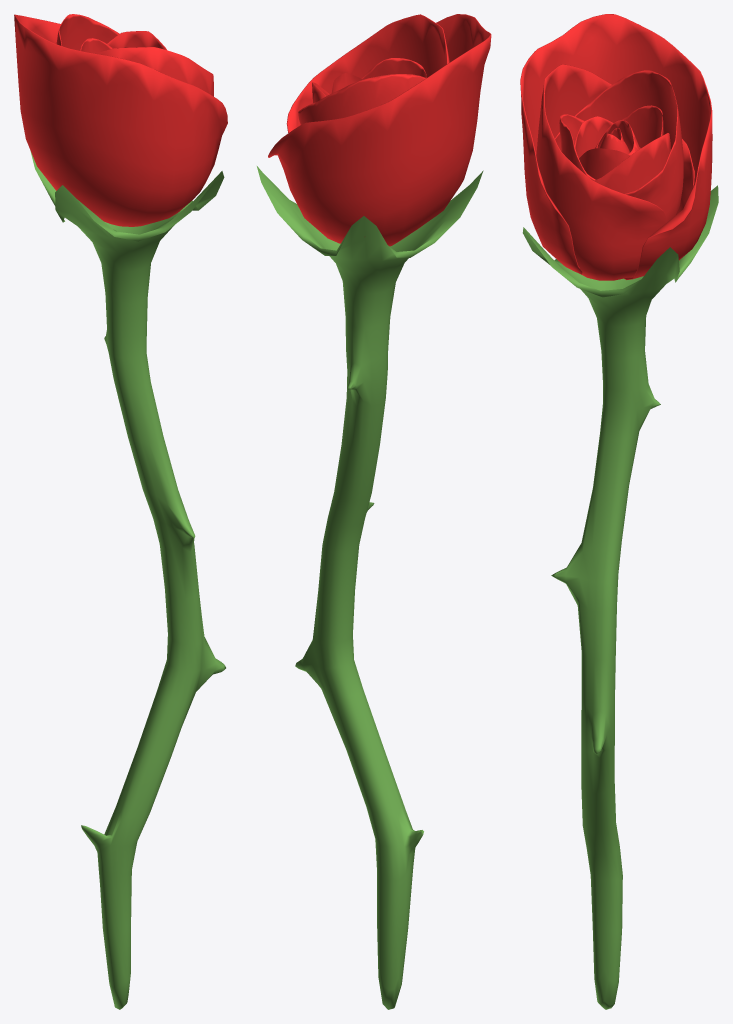
The model's file is Rose.fbx.
3 views of the same model, side by side, from view 1: azimuth 30°, elevation 25°; view 2: azimuth 150°, elevation 25°; view 3: azimuth 270°, elevation 25° (orthographic). The views are drawn at different scales.
Visible parts, largest first — view 1: Pètal; view 2: Pètal; view 3: Pètal.
Part boxes in pixels (x1=…): Pètal: x1=14, y1=14, x2=227, y2=1009; Pètal: x1=257, y1=14, x2=491, y2=1009; Pètal: x1=520, y1=14, x2=718, y2=1009.
Bounding box in the file's own units: 40.9 × 197 × 37.34.
